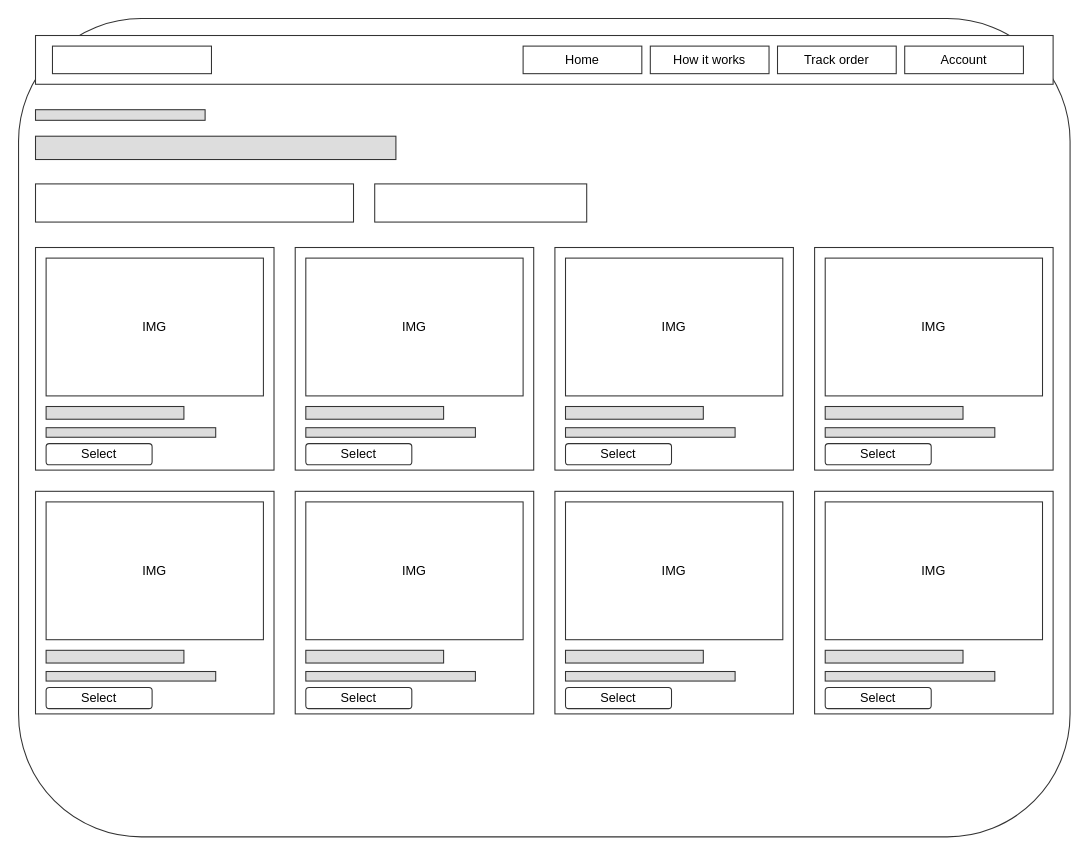
This 1089x855 diagram has some shape labels left out. Here are the shapes that lost their labels. From the top down, the centre of each, then its label:
the point at 131,59: THREADCRAFT
the point at 194,202: Search garments…
the point at 480,202: Filter: All types
